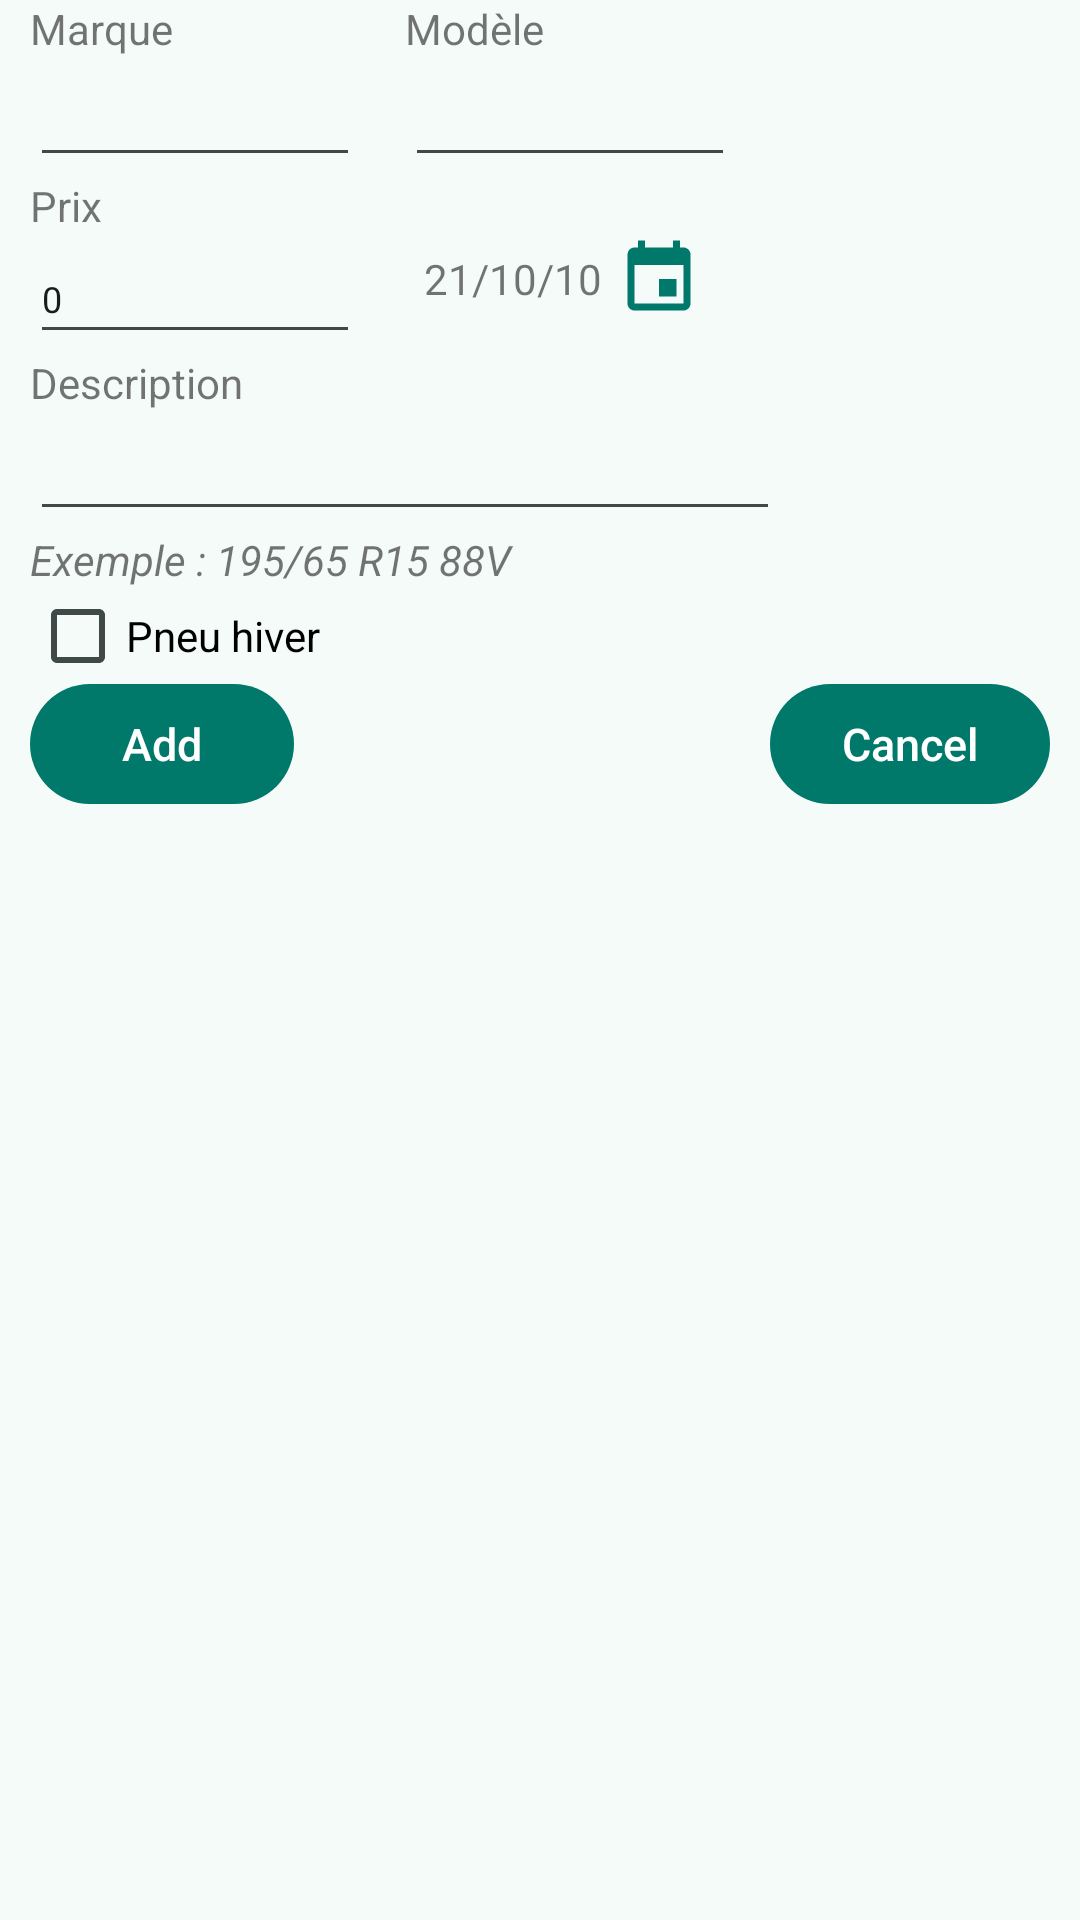

Icon click points for this 1080px×1920px phone screenshot, format [x,y]:
cal: [659,275]
